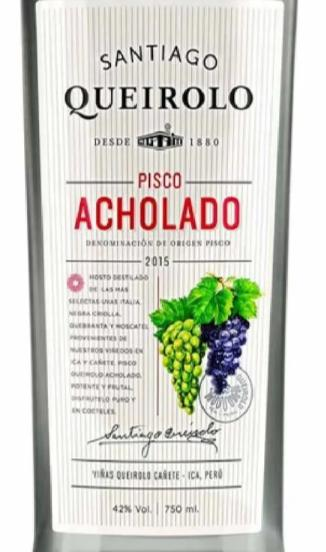brand: (58, 41, 270, 127)
net_weight: (155, 498, 207, 519)
product_name: (51, 164, 264, 237)
